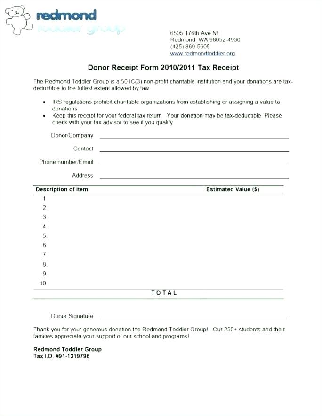textline: (98, 306, 290, 322), (98, 167, 293, 181), (97, 142, 292, 155), (98, 154, 293, 166), (99, 129, 291, 141), (178, 285, 286, 301)
